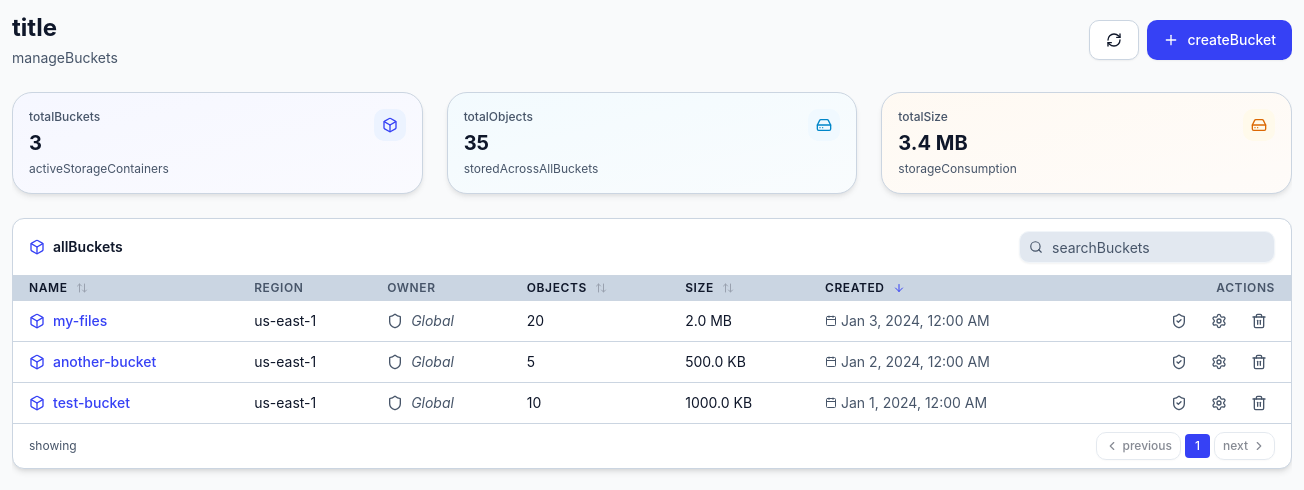
Scenario: Buckets Page › Search Functionality › should show all buckets when search is cleared
Expected: the link "test-bucket" is shown, x1=53 y1=393 x2=130 y2=413
In the field with placeholder "searchBuckets": [1147, 247] box x1=1019 y1=231 x2=1275 y2=263, type "test"
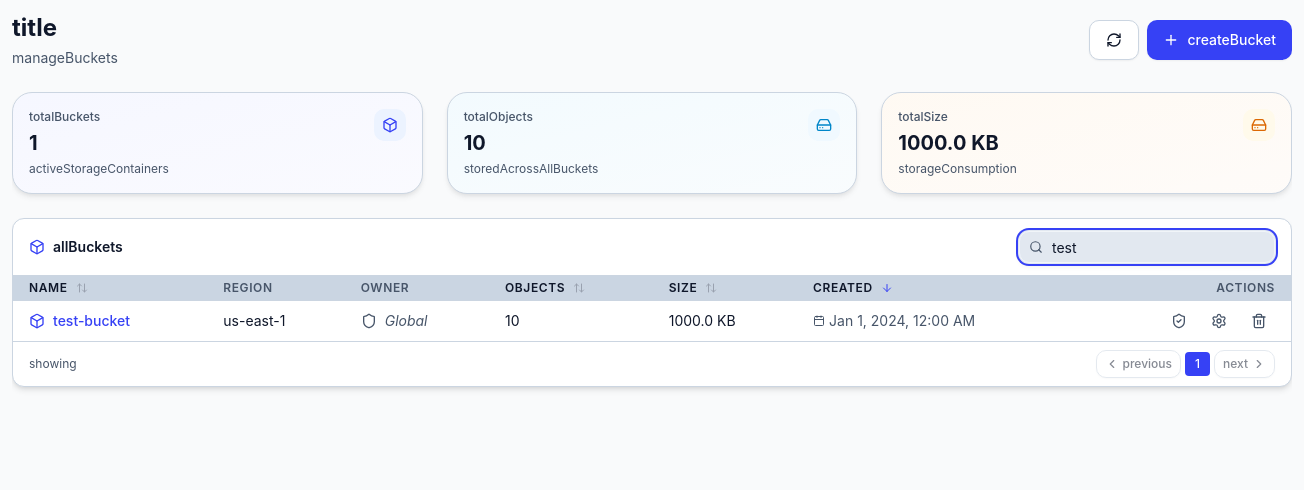
Expected: the link "test-bucket" is shown, x1=53 y1=311 x2=130 y2=331
Expected: the link "my-files" is gone
Note: Clear search
Clear the field with placeholder "searchBuckets": [1147, 247] box x1=1019 y1=231 x2=1275 y2=263
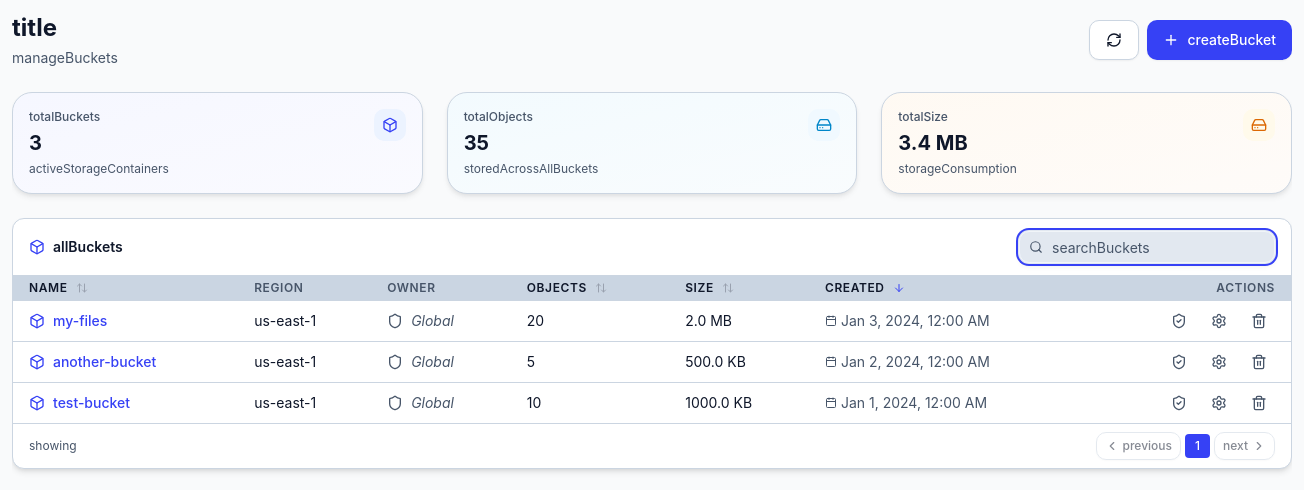
Expected: the link "test-bucket" is shown, x1=53 y1=393 x2=130 y2=413
Expected: the link "another-bucket" is shown, x1=53 y1=352 x2=156 y2=372
Expected: the link "my-files" is shown, x1=53 y1=311 x2=107 y2=331
